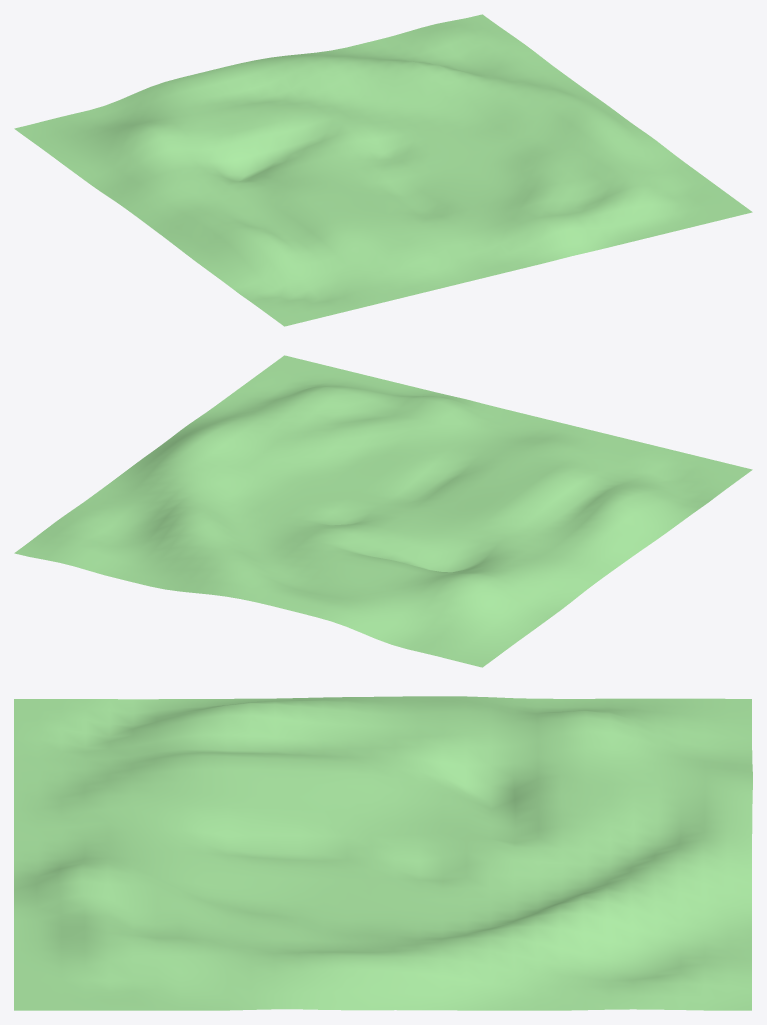
The model's file is yard.fbx.
3 views of the same model, one above another, from view 1: azimuth 30°, elevation 25°; view 2: azimuth 150°, elevation 25°; view 3: azimuth 270°, elevation 25° (orthographic). The views are drawn at different scales.
Visible parts, largest first — view 1: Plane; view 2: Plane; view 3: Plane.
Part boxes in pixels (bbox=[...]): Plane: bbox=[14, 14, 752, 326]; Plane: bbox=[14, 355, 752, 667]; Plane: bbox=[14, 696, 752, 1010].
Bounding box in the file's own units: 1189 × 83.37 × 1189.
